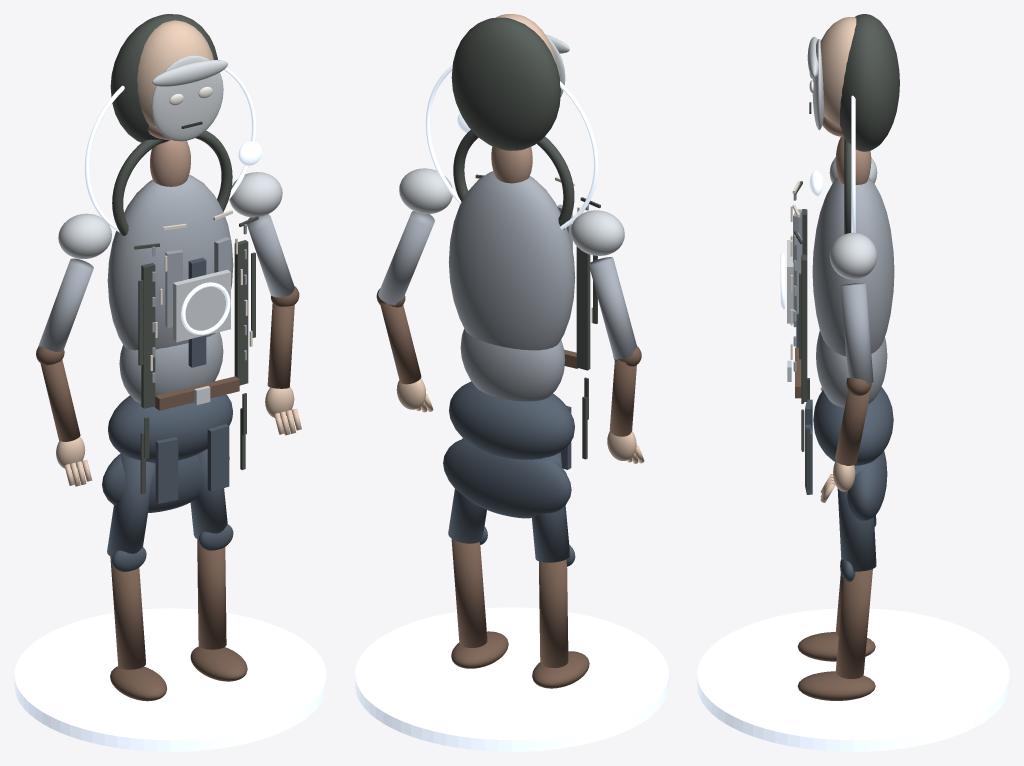
Rendered from iron-oracle.glb.
The picture shows the model from 3 angles, left to right: view 1: azimuth 30°, elevation 25°; view 2: azimuth 150°, elevation 25°; view 3: azimuth 270°, elevation 25°; orthographic projection.
Parts seen in each view (by area): view 1: iron-oracle_table_scale_base, iron-oracle_ribcage, iron-oracle_pelvis, iron-oracle_abdomen, iron-oracle_iron_mask, iron-oracle_hood_back, iron-oracle_head, iron-oracle_oracle_instrument_panel, iron-oracle_right_shin, iron-oracle_left_shin, iron-oracle_left_thigh, iron-oracle_left_upper_arm (+26 smaller); view 2: iron-oracle_table_scale_base, iron-oracle_ribcage, iron-oracle_hood_back, iron-oracle_pelvis, iron-oracle_coat_tail, iron-oracle_abdomen, iron-oracle_left_shin, iron-oracle_right_shin, iron-oracle_left_upper_arm, iron-oracle_right_upper_arm, iron-oracle_left_shoulder, iron-oracle_raised_collar (+12 smaller); view 3: iron-oracle_table_scale_base, iron-oracle_ribcage, iron-oracle_hood_back, iron-oracle_pelvis, iron-oracle_right_shin, iron-oracle_right_upper_arm, iron-oracle_head, iron-oracle_abdomen, iron-oracle_right_thigh, iron-oracle_coat_tail, iron-oracle_right_shoulder, iron-oracle_right_boot (+8 smaller).
Boxes of the visible parts, bbox=[...] form: iron-oracle_table_scale_base: bbox=[14, 608, 326, 751]; iron-oracle_ribcage: bbox=[107, 175, 233, 350]; iron-oracle_pelvis: bbox=[108, 394, 232, 463]; iron-oracle_abdomen: bbox=[119, 332, 223, 403]; iron-oracle_iron_mask: bbox=[151, 55, 223, 141]; iron-oracle_hood_back: bbox=[110, 14, 217, 144]; iron-oracle_head: bbox=[137, 20, 213, 125]; iron-oracle_oracle_instrument_panel: bbox=[173, 269, 230, 342]; iron-oracle_right_shin: bbox=[197, 539, 226, 649]; iron-oracle_left_shin: bbox=[110, 556, 145, 669]; iron-oracle_left_thigh: bbox=[107, 454, 155, 557]; iron-oracle_left_upper_arm: bbox=[38, 258, 93, 351]; iron-oracle_table_scale_base: bbox=[355, 607, 668, 751]; iron-oracle_ribcage: bbox=[448, 171, 575, 350]; iron-oracle_hood_back: bbox=[451, 17, 560, 150]; iron-oracle_pelvis: bbox=[449, 381, 574, 459]; iron-oracle_coat_tail: bbox=[443, 439, 571, 518]; iron-oracle_abdomen: bbox=[460, 328, 565, 401]; iron-oracle_left_shin: bbox=[539, 559, 568, 667]; iron-oracle_right_shin: bbox=[451, 539, 487, 647]; iron-oracle_left_upper_arm: bbox=[588, 257, 636, 359]; iron-oracle_right_upper_arm: bbox=[378, 211, 434, 305]; iron-oracle_left_shoulder: bbox=[571, 210, 624, 255]; iron-oracle_raised_collar: bbox=[453, 130, 574, 229]; iron-oracle_table_scale_base: bbox=[697, 608, 1009, 751]; iron-oracle_ribcage: bbox=[812, 177, 894, 356]; iron-oracle_hood_back: bbox=[840, 14, 899, 151]; iron-oracle_pelvis: bbox=[813, 387, 893, 465]; iron-oracle_right_shin: bbox=[835, 569, 872, 678]; iron-oracle_right_upper_arm: bbox=[841, 283, 873, 383]; iron-oracle_head: bbox=[820, 17, 856, 125]; iron-oracle_abdomen: bbox=[816, 331, 887, 407]; iron-oracle_right_thigh: bbox=[837, 463, 876, 571]; iron-oracle_coat_tail: bbox=[847, 451, 887, 520]; iron-oracle_right_shoulder: bbox=[829, 232, 877, 279]; iron-oracle_right_boot: bbox=[797, 671, 875, 700].
Bounding box in the file's own units: 0.84 × 1.98 × 0.84.
